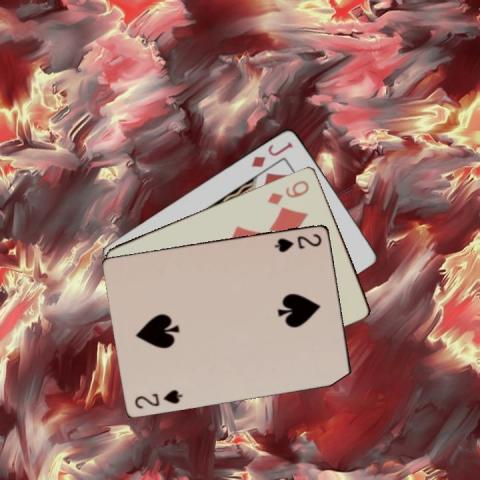2s: (132, 386, 183, 410), (271, 230, 324, 253)
9d: (264, 177, 311, 206)
Jd: (248, 138, 295, 169)
